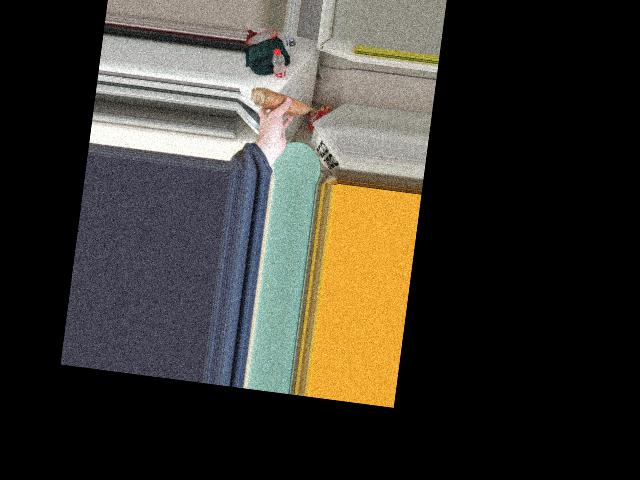sweet_potato: (248, 91, 313, 115)
